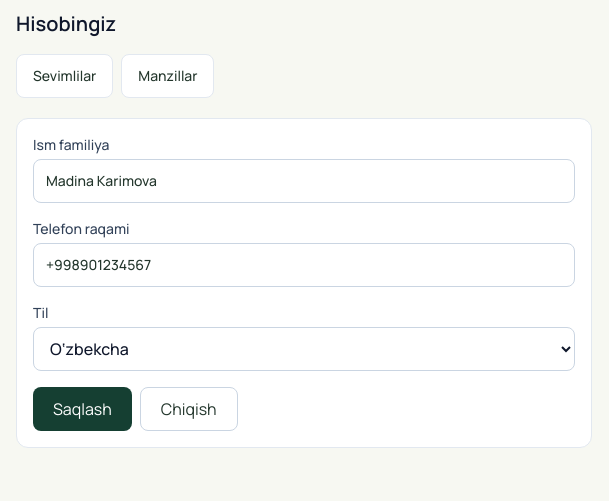
customer profile, favorites and addresses › keeps profile drafts after a recoverable error and sends only editable profile fields
The width and height of the screenshot is (609, 501).
Replace the text in the field labelled "Ism familiya" with "Draft name" at (304, 181), box [33,159,575,203]
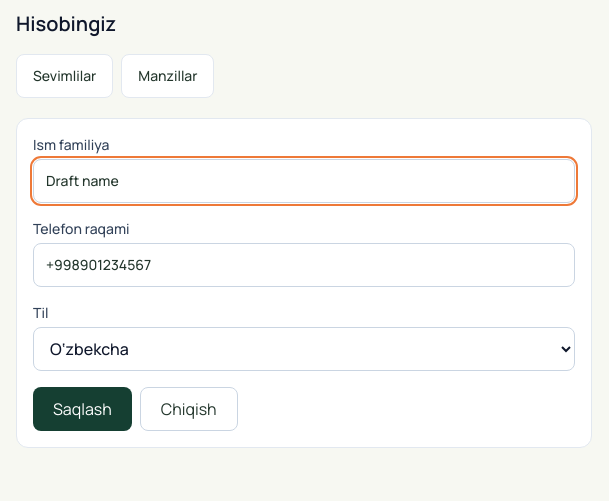
Replace the text in the field labelled "Telefon raqami" with "+998911234567" at (304, 265), box [33,243,575,287]
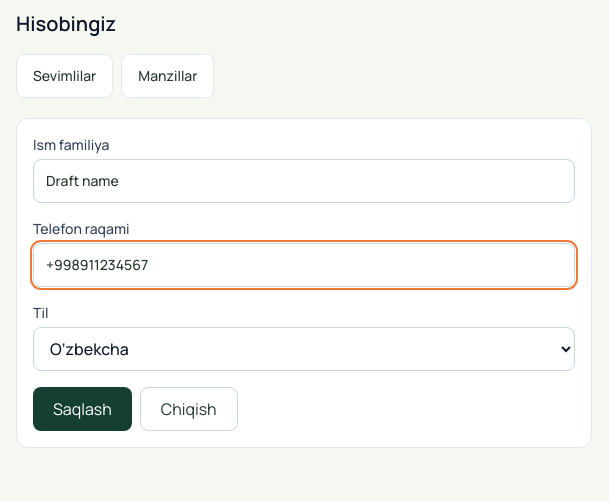
Select "Русский" in the dropdown labelled "Til" at (304, 349), box [33,327,575,371]
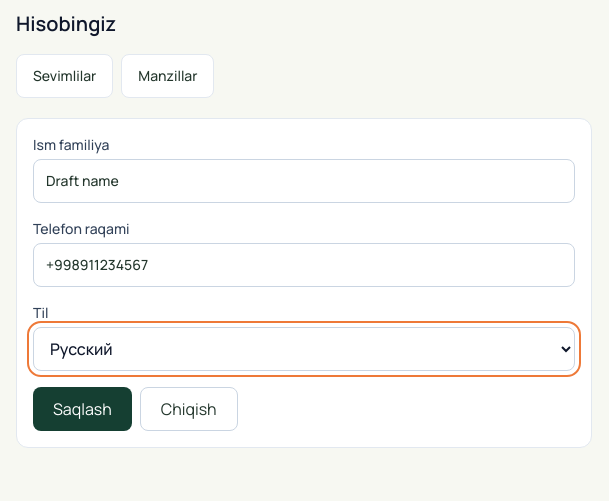
Click the button "Saqlash" at (82, 409), box [33,387,132,431]
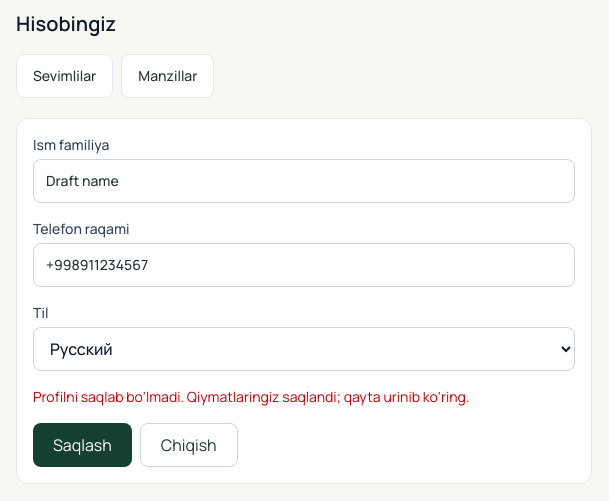
Result: the message "Profilni saqlab bo‘lmadi. Qiymatlaringiz saqlandi; qayta urinib ko‘ring." is shown at [33,387,469,406]
